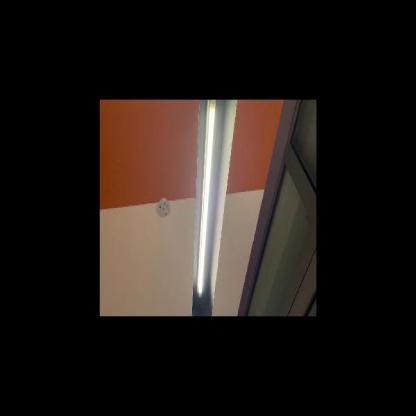light_on: (193, 99, 218, 300)
